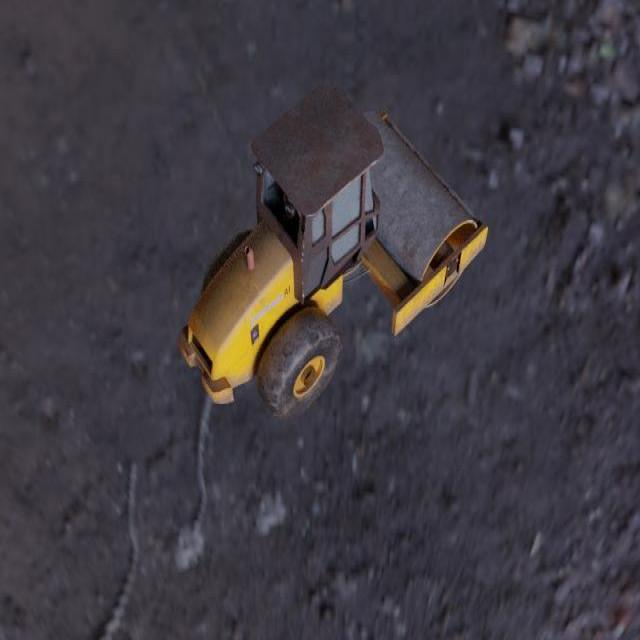Roller: (176, 83, 488, 420)
